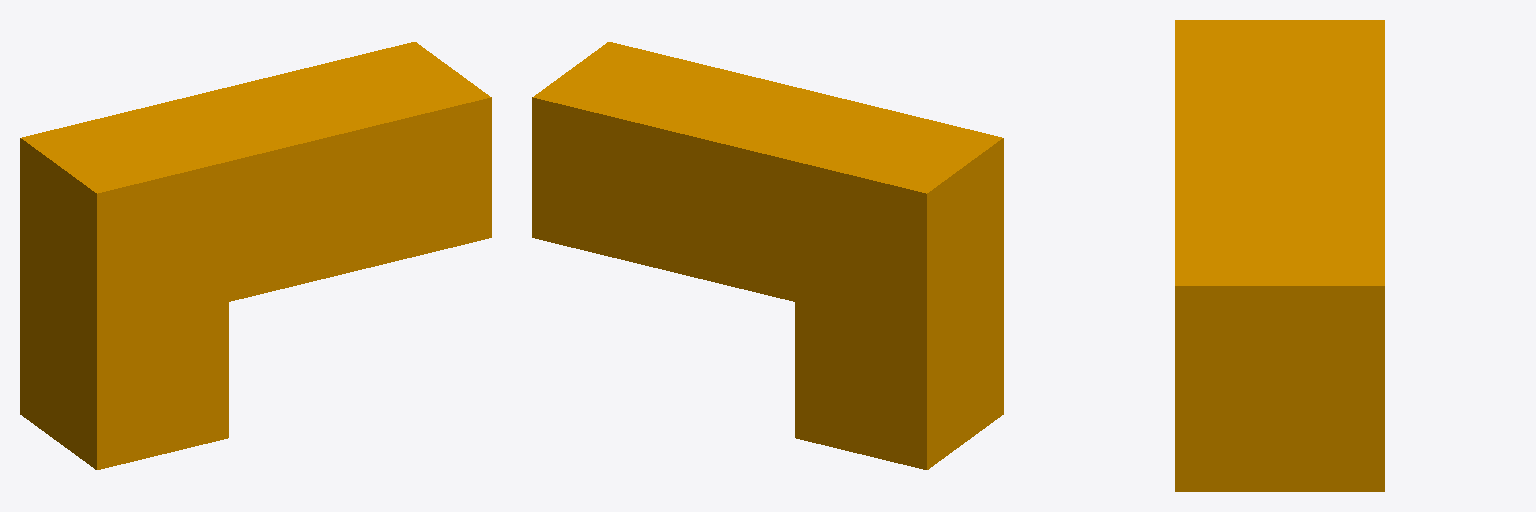
robot.urdf — 2_3L_3:
<robot name="2_3L_3">
  <link name="link">
    <visual>
      <geometry>
        <mesh filename="2_3L_3.obj" scale="1 1 1"/>
      </geometry>
    </visual>
    <collision>
      <geometry>
        <mesh filename="2_3L_3.obj" scale="1 1 1"/>
      </geometry>
    </collision>
    <inertial>
      <mass value="1"/>
      <inertia ixx="1" iyy="1" izz="1" ixy="0" ixz="0" iyz="0"/>
      <origin xyz="0 0 0" rpy="0 0 0"/>
    </inertial>
  </link>
</robot>

--- What the picture shows (computed from the rendered views, not written in the file) ---
The picture shows the robot from 3 angles, left to right: view 1: azimuth 30°, elevation 25°; view 2: azimuth 150°, elevation 25°; view 3: azimuth 270°, elevation 25°; orthographic projection.
Model 2_3L_3 with 1 links and 0 joints (none), rooted at link, posed all joints at 0.
Visible links, largest first — view 1: link; view 2: link; view 3: link.
Boxes of the visible links, x1,y1,x2,y2 form: link: [20, 42, 491, 469]; link: [532, 42, 1003, 469]; link: [1175, 20, 1384, 491].
Bounding box of the posed robot: 0.1767 × 0.0592 × 0.1184 m (x, y, z).
Meshes: 1 distinct files referenced, 1 mesh visuals loaded (1 OBJ).